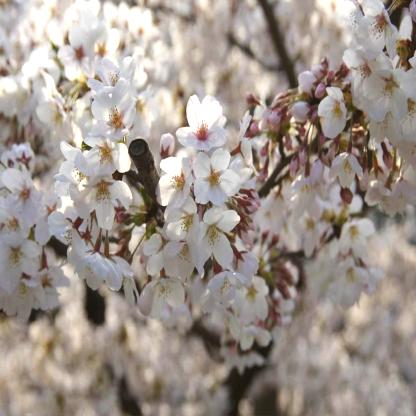Someiyoshino: (1, 1, 415, 415)
